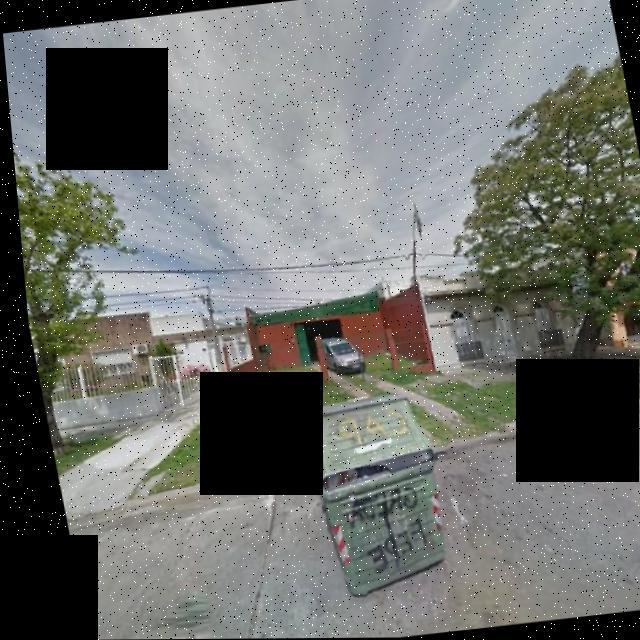bin: (279, 383, 458, 612)
